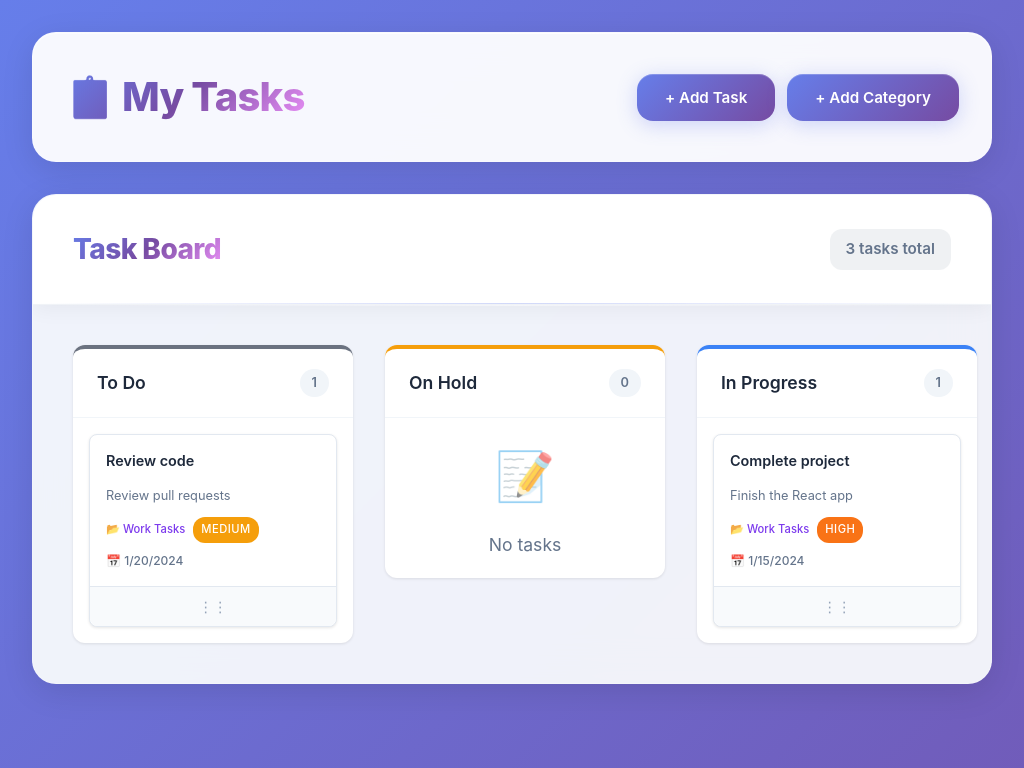
Test: Dashboard › should show add task form when Add Task button is clicked
Click the button "+ Add Task" at {"x": 706, "y": 97}, box top-left (637, 74), bottom-right (775, 120)
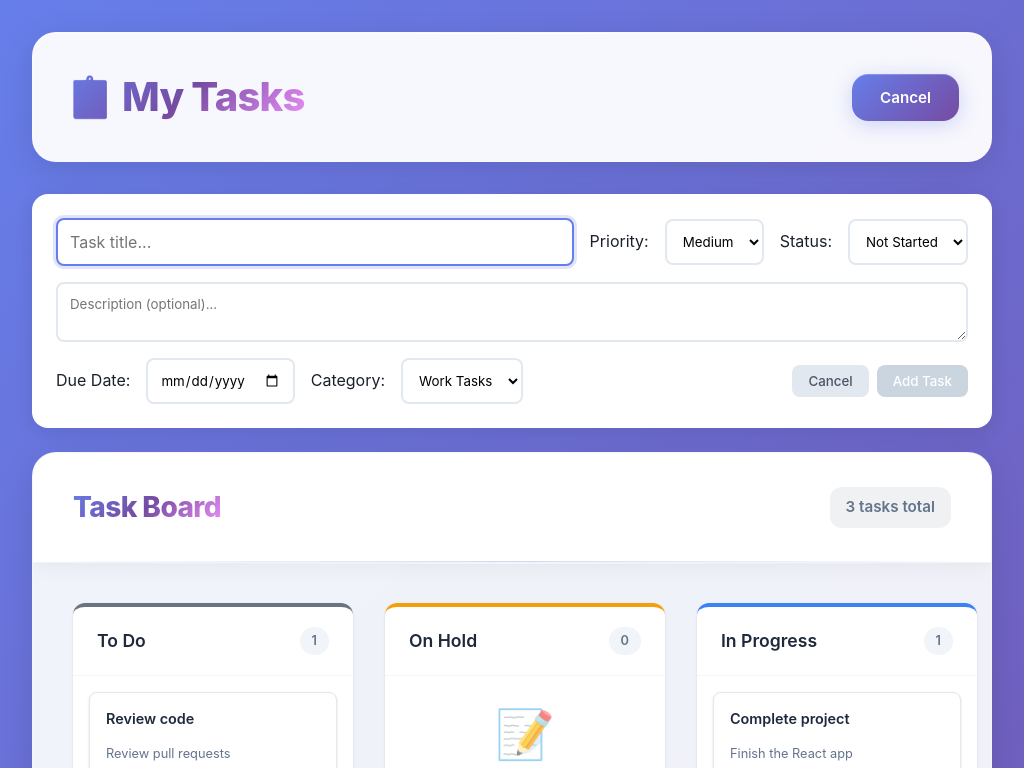
Now the field with placeholder "Task title..." is shown, box top-left (56, 218), bottom-right (574, 266)
